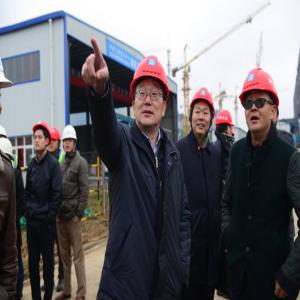red: (128, 53, 172, 138), (238, 65, 282, 142), (190, 86, 217, 140), (216, 106, 235, 143), (32, 119, 50, 154), (48, 127, 61, 155)
white: (61, 123, 80, 159)
